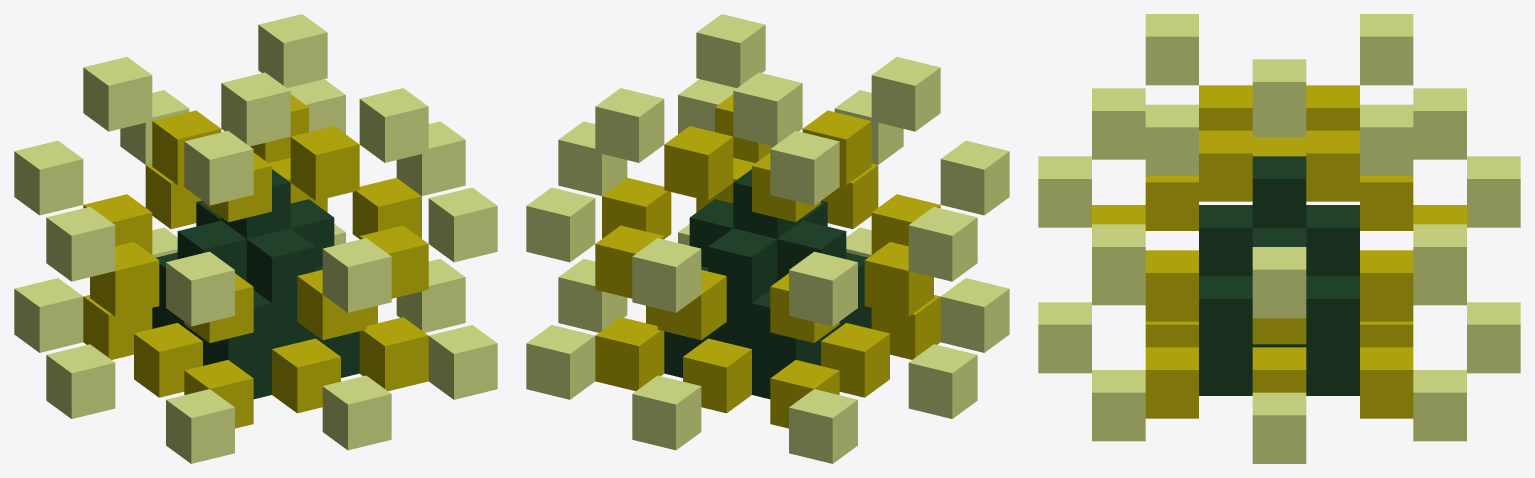
File: Moving Mine.obj
3 renders of one model, left to right at view 1: azimuth 30°, elevation 25°; view 2: azimuth 150°, elevation 25°; view 3: azimuth 270°, elevation 25°, orthographic. The views are drawn at different scales.
Size of the model in its own units: 9 by 6 by 9.
Materials: 1 (1 with a texture image).
